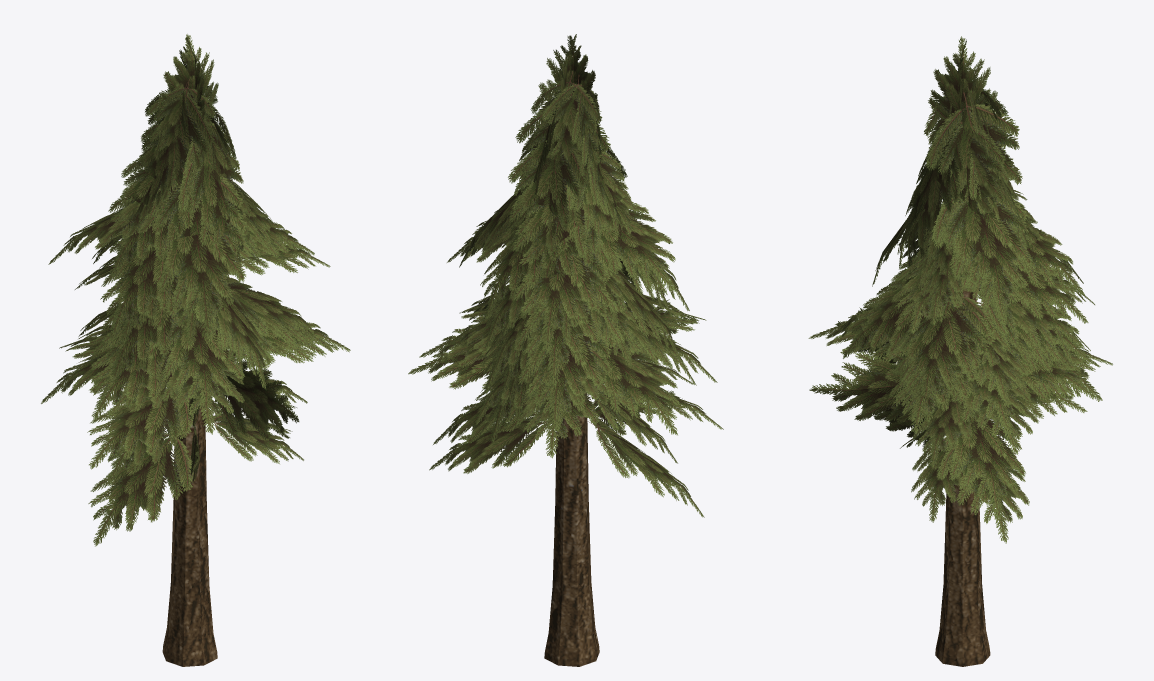
File: arvore 4.fbx
The picture shows the model from 3 angles, left to right: view 1: azimuth 30°, elevation 25°; view 2: azimuth 150°, elevation 25°; view 3: azimuth 270°, elevation 25°; orthographic projection.
Parts seen in each view (by area): view 1: arvore 4; view 2: arvore 4; view 3: arvore 4.
Boxes of the visible parts, box(x1,y1,x2,y2) form: arvore 4: box(41, 34, 350, 666); arvore 4: box(408, 34, 723, 666); arvore 4: box(808, 36, 1112, 666).
Size of the model in its own units: 979 by 1898 by 989.
1 material, 1 textured.
